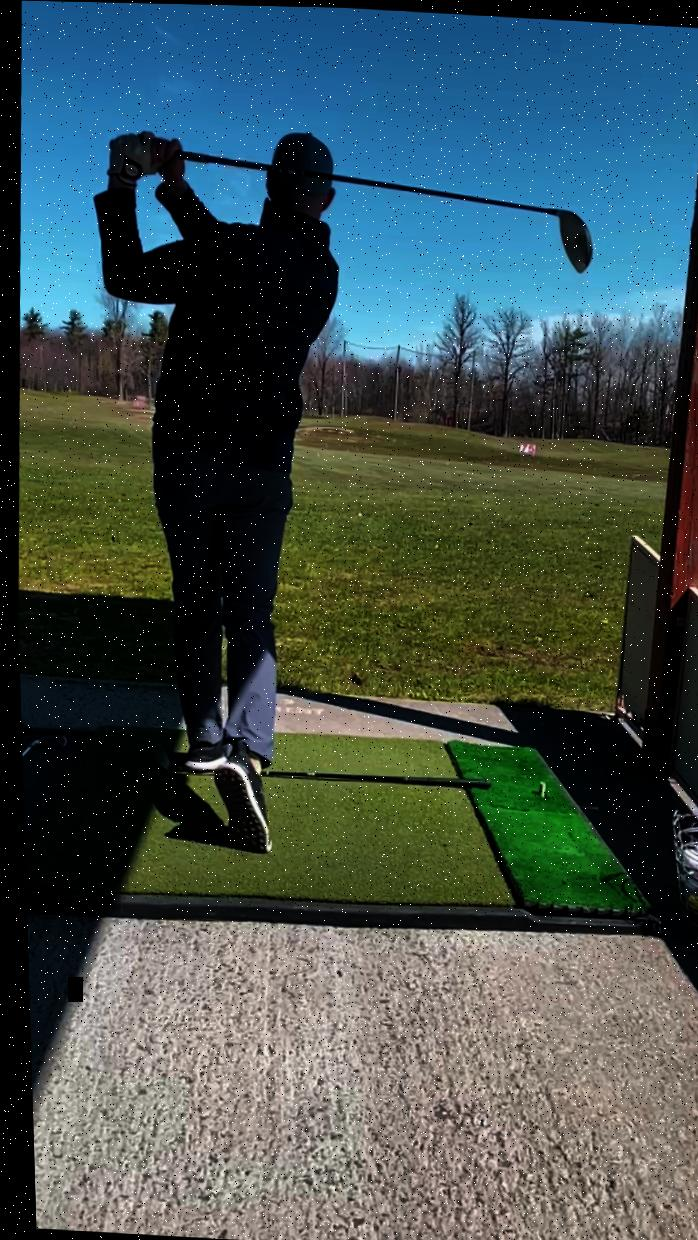ClubHead: (540, 204, 594, 273), (21, 732, 64, 750)
